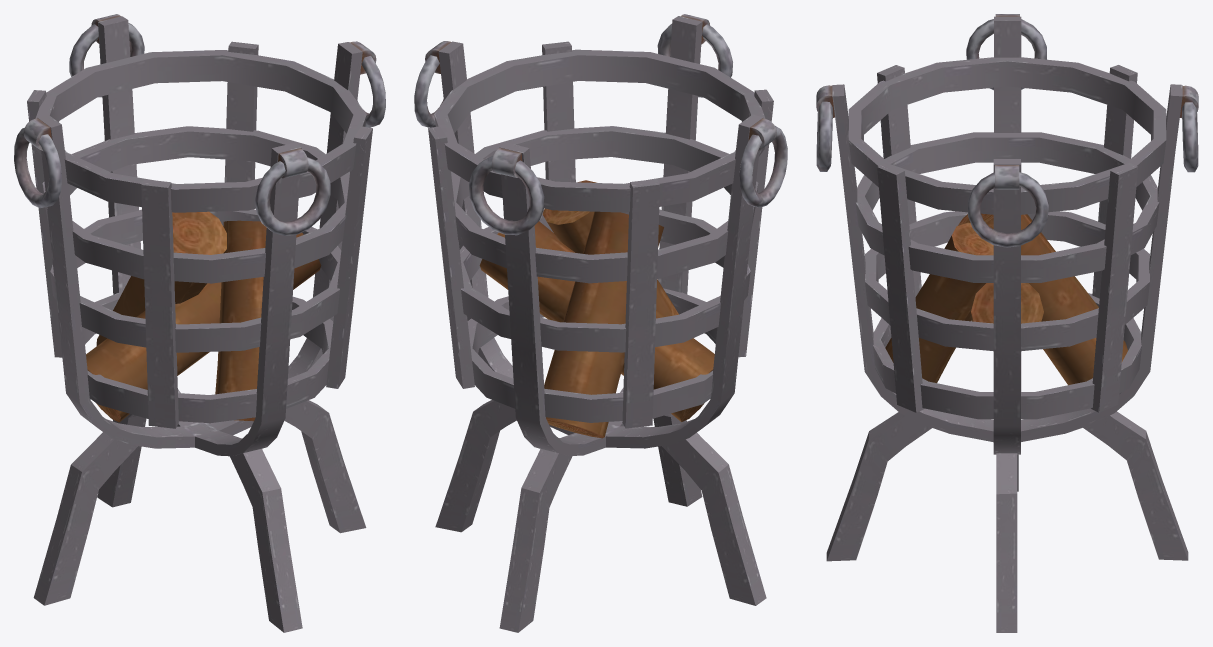
File: FirePit.gltf
3 views of the same model, side by side, from view 1: azimuth 30°, elevation 25°; view 2: azimuth 150°, elevation 25°; view 3: azimuth 270°, elevation 25° (orthographic). The views are drawn at different scales.
Visible parts, largest first — view 1: Firepit; view 2: Firepit; view 3: Firepit.
Part boxes in pixels (x1=…): Firepit: x1=14, y1=14, x2=385, y2=632; Firepit: x1=414, y1=14, x2=787, y2=632; Firepit: x1=816, y1=14, x2=1198, y2=632.
Bounding box in the file's own units: 0.8089 × 1.09 × 0.8089.
Materials: 2 (2 with a texture image).
